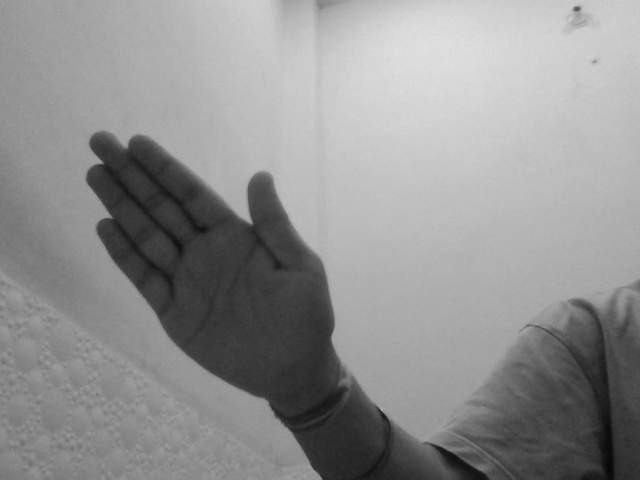Hello: (80, 128, 338, 402)
